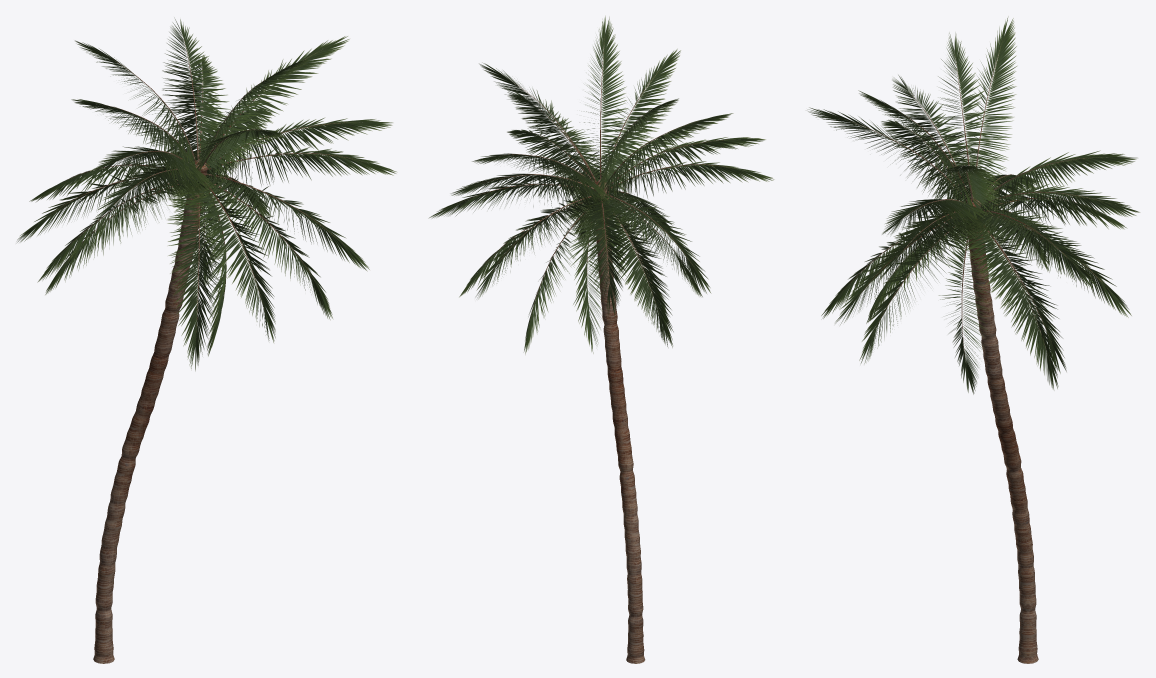
Rendered from palma.glb.
3 views of the same model, side by side, from view 1: azimuth 30°, elevation 25°; view 2: azimuth 150°, elevation 25°; view 3: azimuth 270°, elevation 25° (orthographic). The views are drawn at different scales.
Parts seen in each view (by area): view 1: Leaves.001, Trunk, Branches1; view 2: Leaves.001, Trunk, Branches1; view 3: Leaves.001, Trunk, Branches1.
Part boxes in pixels (bbox=[...]): Leaves.001: bbox=[17, 19, 396, 370]; Trunk: bbox=[93, 159, 207, 663]; Branches1: bbox=[52, 41, 353, 331]; Leaves.001: bbox=[429, 16, 774, 354]; Trunk: bbox=[594, 179, 645, 663]; Branches1: bbox=[464, 43, 736, 313]; Leaves.001: bbox=[808, 16, 1139, 394]; Trunk: bbox=[966, 196, 1038, 663]; Branches1: bbox=[843, 55, 1107, 362].
Bounding box in the file's own units: 69.04 × 136 × 66.21.
2 materials, 2 textured.
